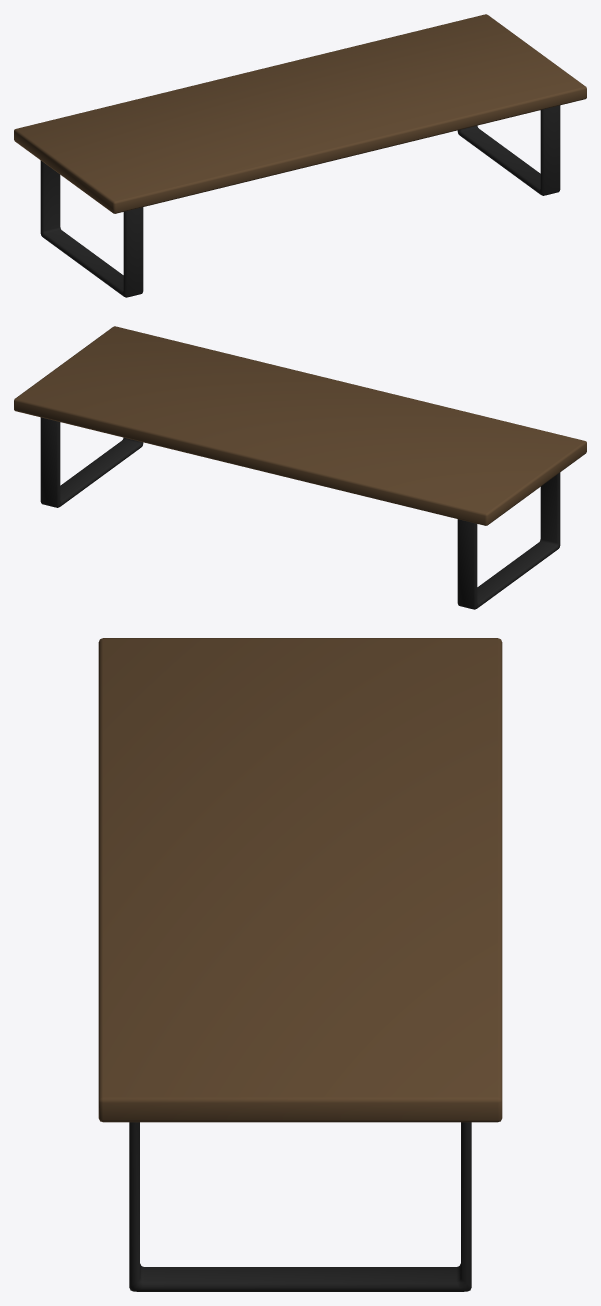
File: Meeting-Table.fbx
3 views of the same model, one above another, from view 1: azimuth 30°, elevation 25°; view 2: azimuth 150°, elevation 25°; view 3: azimuth 270°, elevation 25° (orthographic). The views are drawn at different scales.
Parts seen in each view (by area): view 1: Meeting-Table; view 2: Meeting-Table; view 3: Meeting-Table.
Boxes of the visible parts, x1,y1,x2,y2 form: Meeting-Table: (14,14,586,297); Meeting-Table: (14,326,586,609); Meeting-Table: (98,638,502,1291).
Size of the model in its own units: 10.7 by 2.3 by 3.95.
